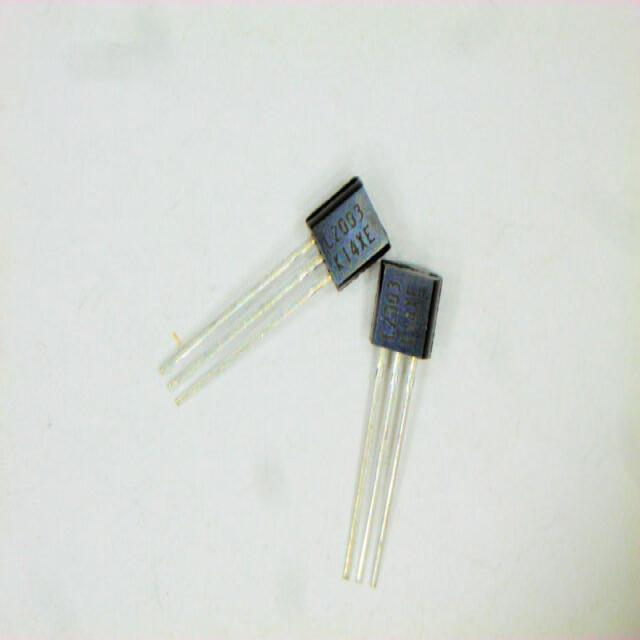Transistor: (133, 157, 406, 429), (328, 269, 446, 602)
